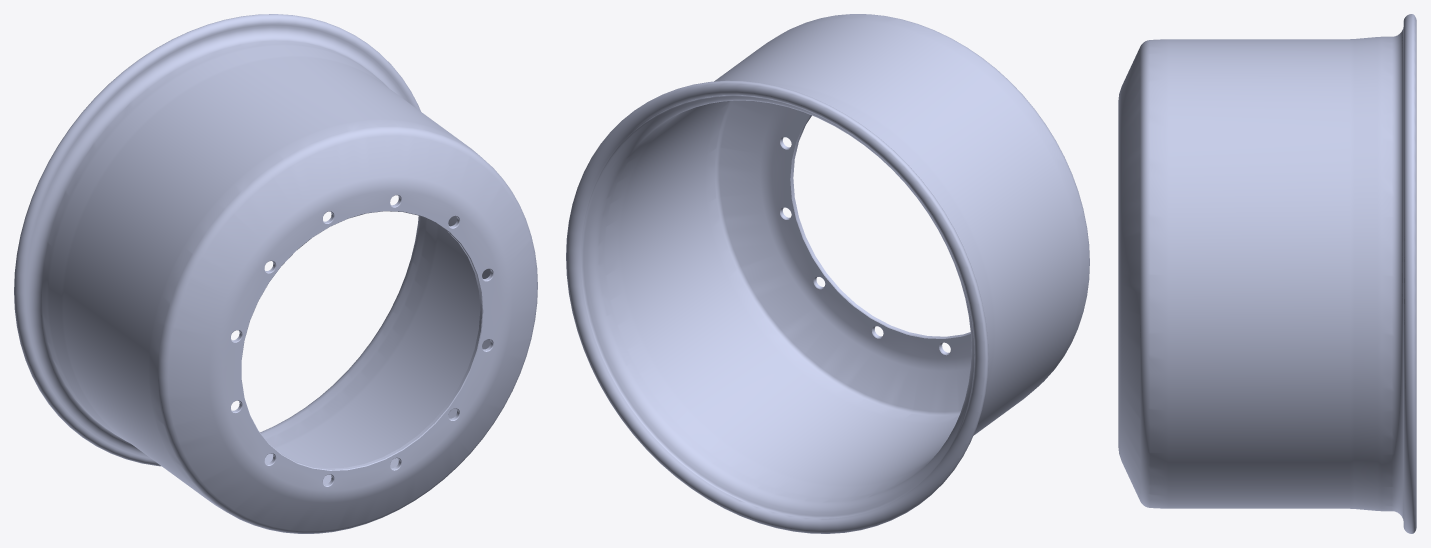
File: Keizer_FSAE_Wheel_10x7_25_1inch_Offset__Kiezer_FSAE_Wheel_Inner_Half_10x6_2.dae
3 views of the same model, side by side, from view 1: azimuth 30°, elevation 25°; view 2: azimuth 150°, elevation 25°; view 3: azimuth 270°, elevation 25° (orthographic). The views are drawn at different scales.
Visible parts, largest first — view 1: node0; view 2: node0; view 3: node0.
Boxes of the visible parts, x1=… form: node0: x1=14, y1=14, x2=537, y2=533; node0: x1=566, y1=14, x2=1089, y2=533; node0: x1=1118, y1=14, x2=1416, y2=533.
Size of the model in its own units: 0.2777 by 0.2777 by 0.1593.
